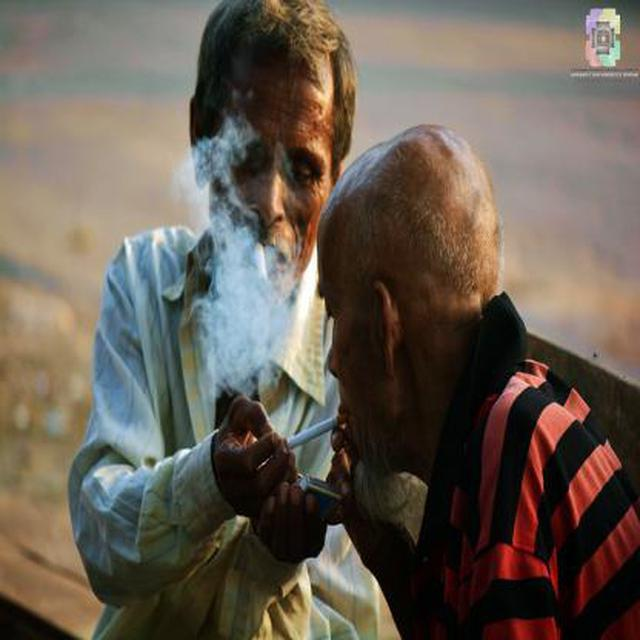smoking: (274, 411, 348, 459)
